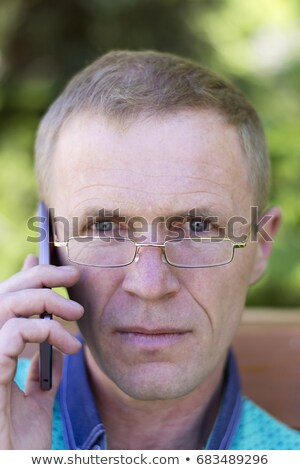phone: (2, 203, 85, 394)
talk: (3, 176, 257, 433)
